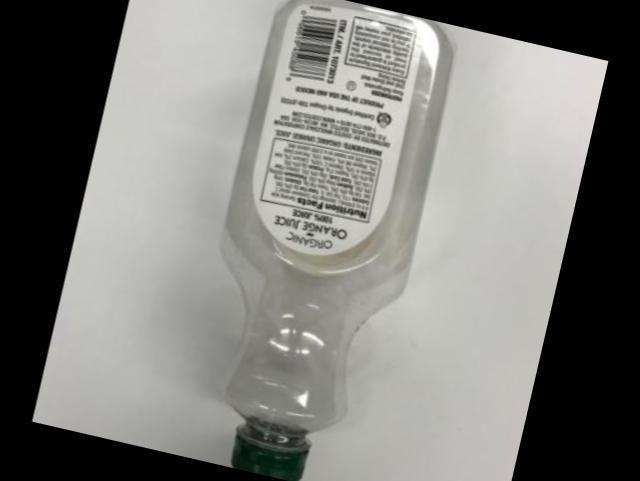plastic: (226, 0, 454, 481)
